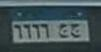6: (41, 22, 50, 39), (32, 23, 41, 40), (22, 23, 31, 39), (14, 22, 22, 40)
jeem: (57, 23, 69, 39), (70, 22, 81, 39)
